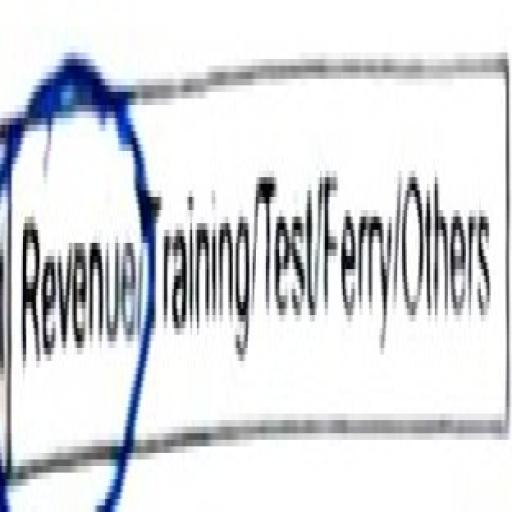check: (0, 45, 140, 512)
